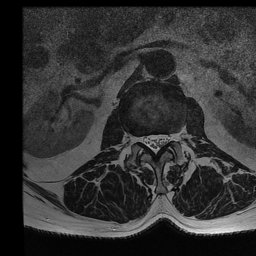CCS_normal: (151, 125, 159, 161)
LFS_normal: (168, 125, 177, 148)
LLS_normal: (159, 125, 168, 152)
RFS_stenosis: (134, 126, 142, 149)
RLS_normal: (142, 126, 150, 152)
